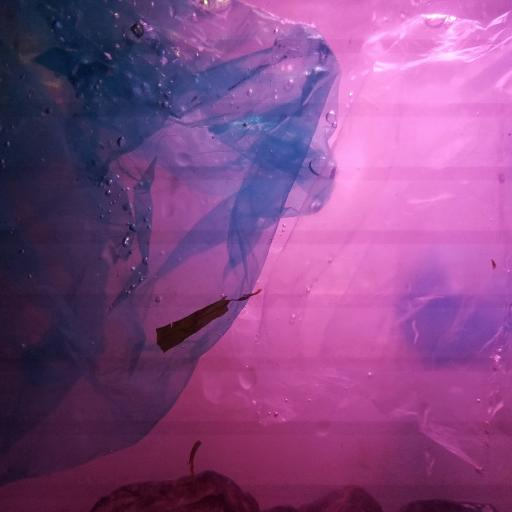plastic_bag: (0, 1, 343, 482), (241, 0, 512, 512)
